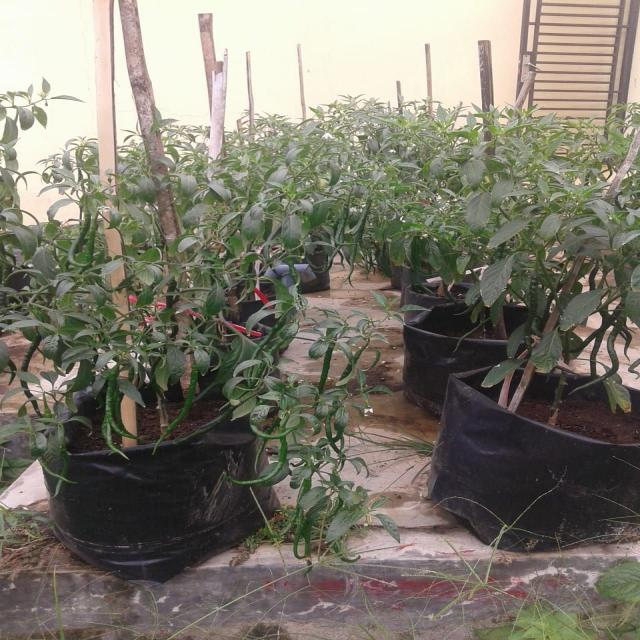sehat: (472, 252, 521, 310), (279, 203, 312, 249), (190, 348, 219, 378), (203, 286, 230, 316)
